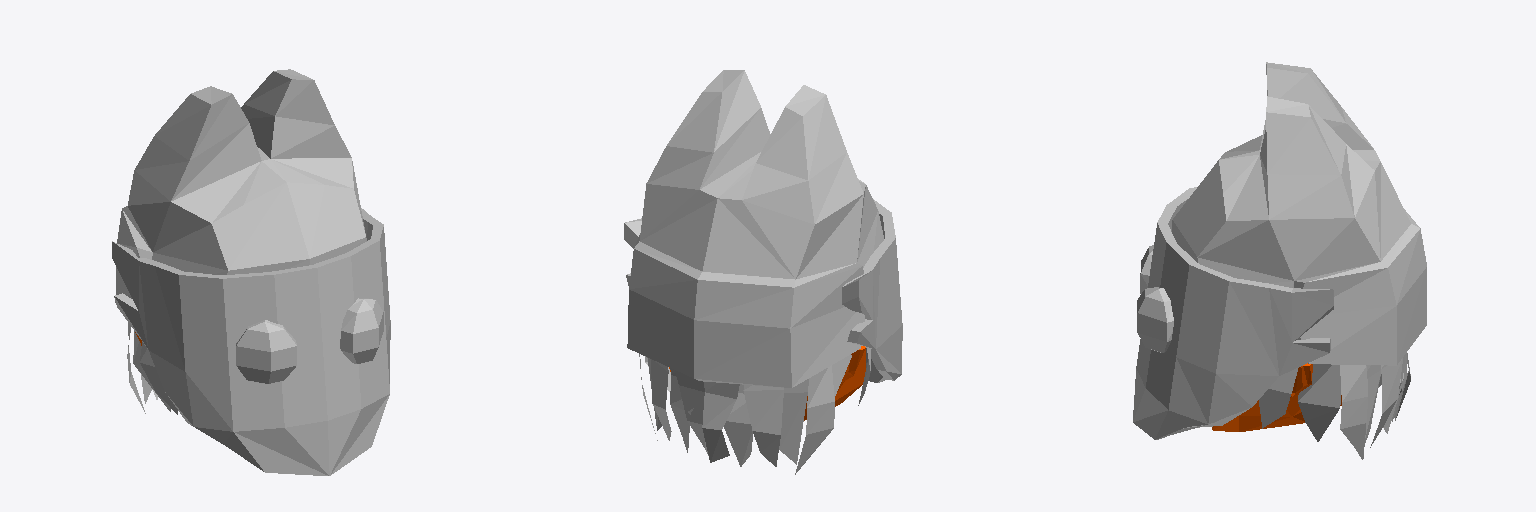
Rendered from head.obj.
3 views of the same model, side by side, from view 1: azimuth 30°, elevation 25°; view 2: azimuth 150°, elevation 25°; view 3: azimuth 270°, elevation 25° (orthographic).
Parts seen in each view (by area): view 1: pCube15, pCube13, pSphere1, pasted__pSphere1 group26, polySurface3 polySurface1 pCube10 polySurface16 polySurface19; view 2: pCube13, pasted__polySurface16 pasted__polySurface3 pasted__polySurface1 , pCube15, polySurface3 polySurface1 pCube10 polySurface16 polySurface17, polySurface15 polySurface3 polySurface1 pCube10; view 3: pCube13, pCube15, pasted__polySurface16 pasted__polySurface3 pasted__polySurface1 , polySurface3 polySurface1 pCube10 polySurface16 polySurface17, pasted__pSphere1 group26, polySurface15 polySurface3 polySurface1 pCube10, polySurface3 polySurface1 pCube10 polySurface18 polySurface16.
Part boxes in pixels (x1,y1,x2,y2): pCube15: (112,208,390,475); pCube13: (115,69,366,302); pSphere1: (236,320,296,383); pasted__pSphere1 group26: (340,298,383,363); polySurface3 polySurface1 pCube10 polySurface16 polySurface19: (140,342,177,414); pCube13: (627,70,883,387); pasted__polySurface16 pasted__polySurface3 pasted__polySurface1 : (639,354,834,474); pCube15: (624,199,902,382); polySurface3 polySurface1 pCube10 polySurface16 polySurface17: (645,354,851,466); polySurface15 polySurface3 polySurface1 pCube10: (669,346,865,420); pCube13: (1172,62,1426,365); pCube15: (1133,187,1333,439); pasted__polySurface16 pasted__polySurface3 pasted__polySurface1 : (1340,353,1410,459); polySurface3 polySurface1 pCube10 polySurface16 polySurface17: (1298,364,1403,442); pasted__pSphere1 group26: (1137,287,1173,352); polySurface15 polySurface3 polySurface1 pCube10: (1212,363,1341,431); polySurface3 polySurface1 pCube10 polySurface18 polySurface16: (1259,368,1297,428).
Bounding box in the file's own units: 7.79 × 11.03 × 8.47.